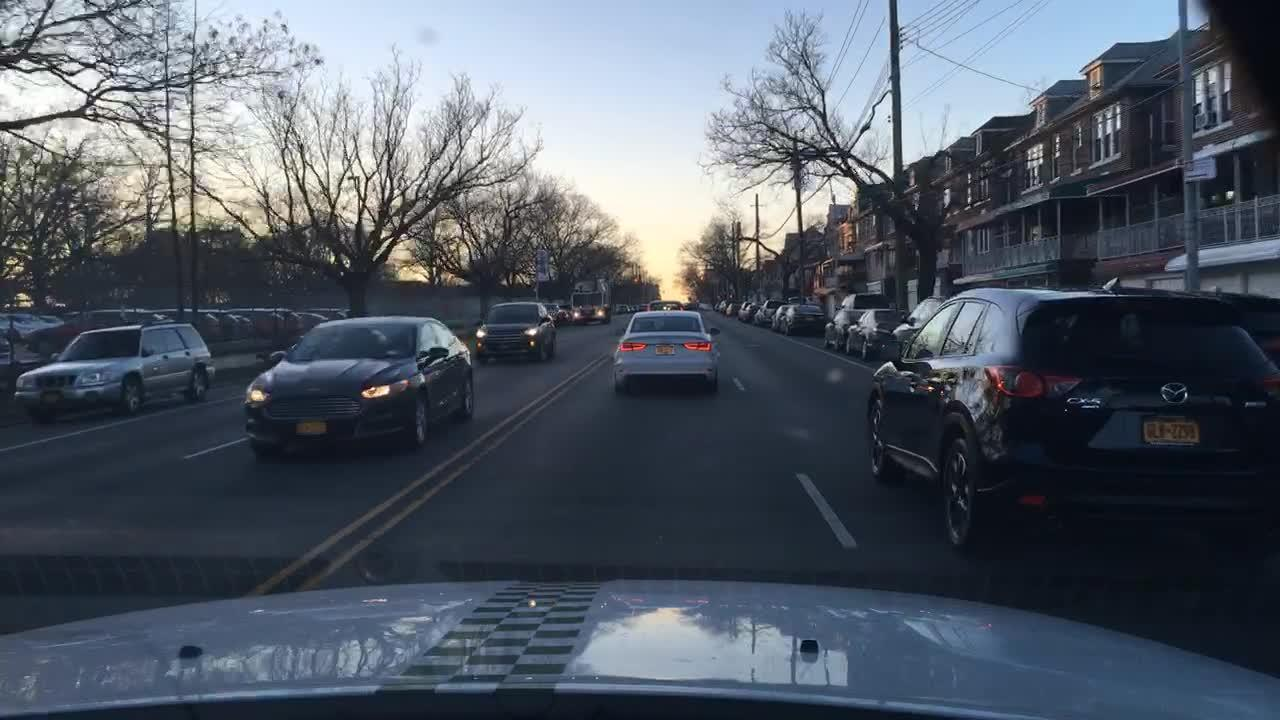Mazda: (1145, 373, 1198, 412)
